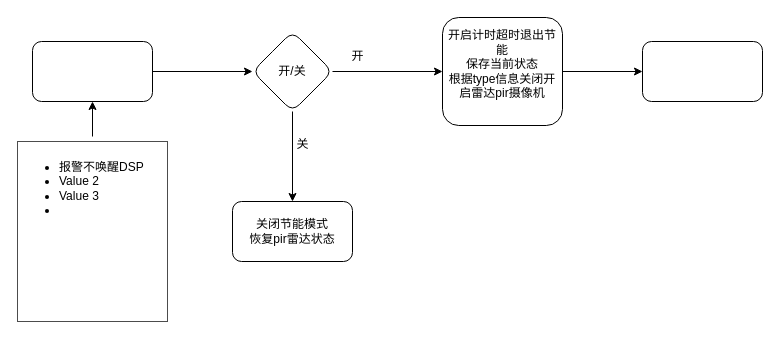
This 780x342 diagram has some shape labels left out. The box of each missing label's shape, as (x1, y1, x2, y2) in pixels:
关闭摄像机 过滤DSP唤醒: (642, 40, 762, 102)
节能模式: (32, 40, 152, 102)
